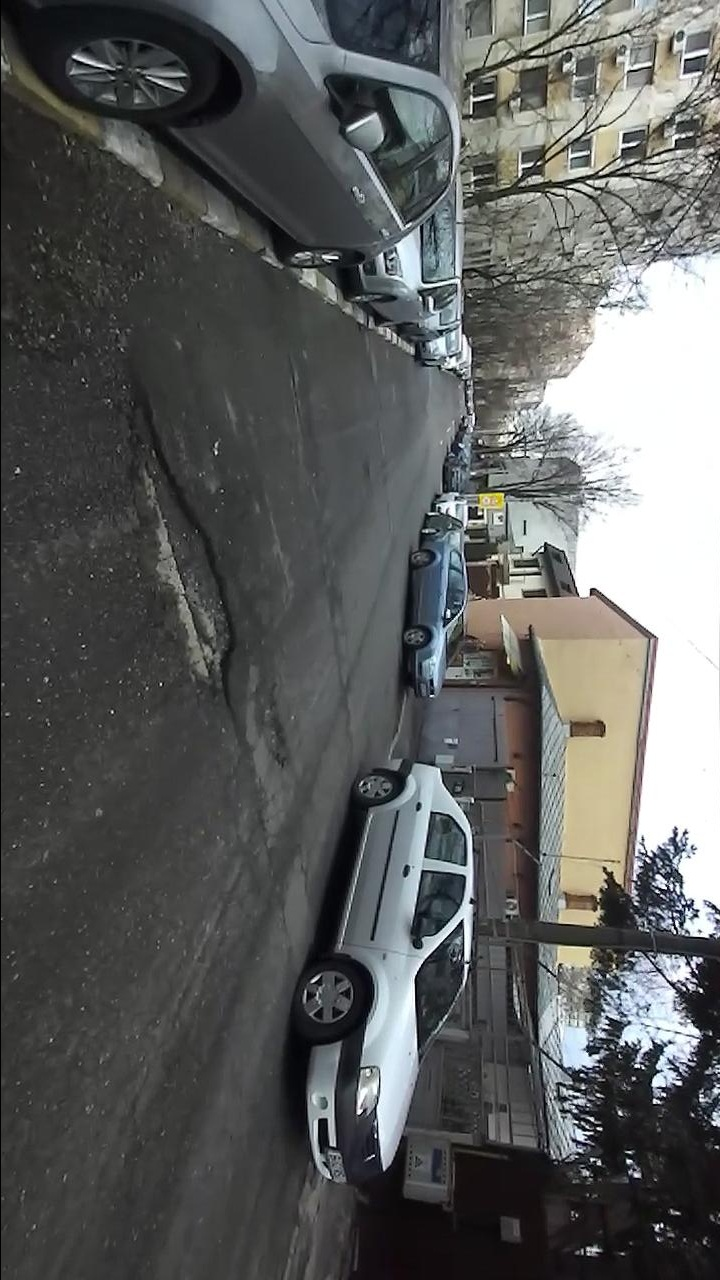pothole: (119, 379, 241, 720), (256, 693, 298, 773), (283, 350, 308, 435)
